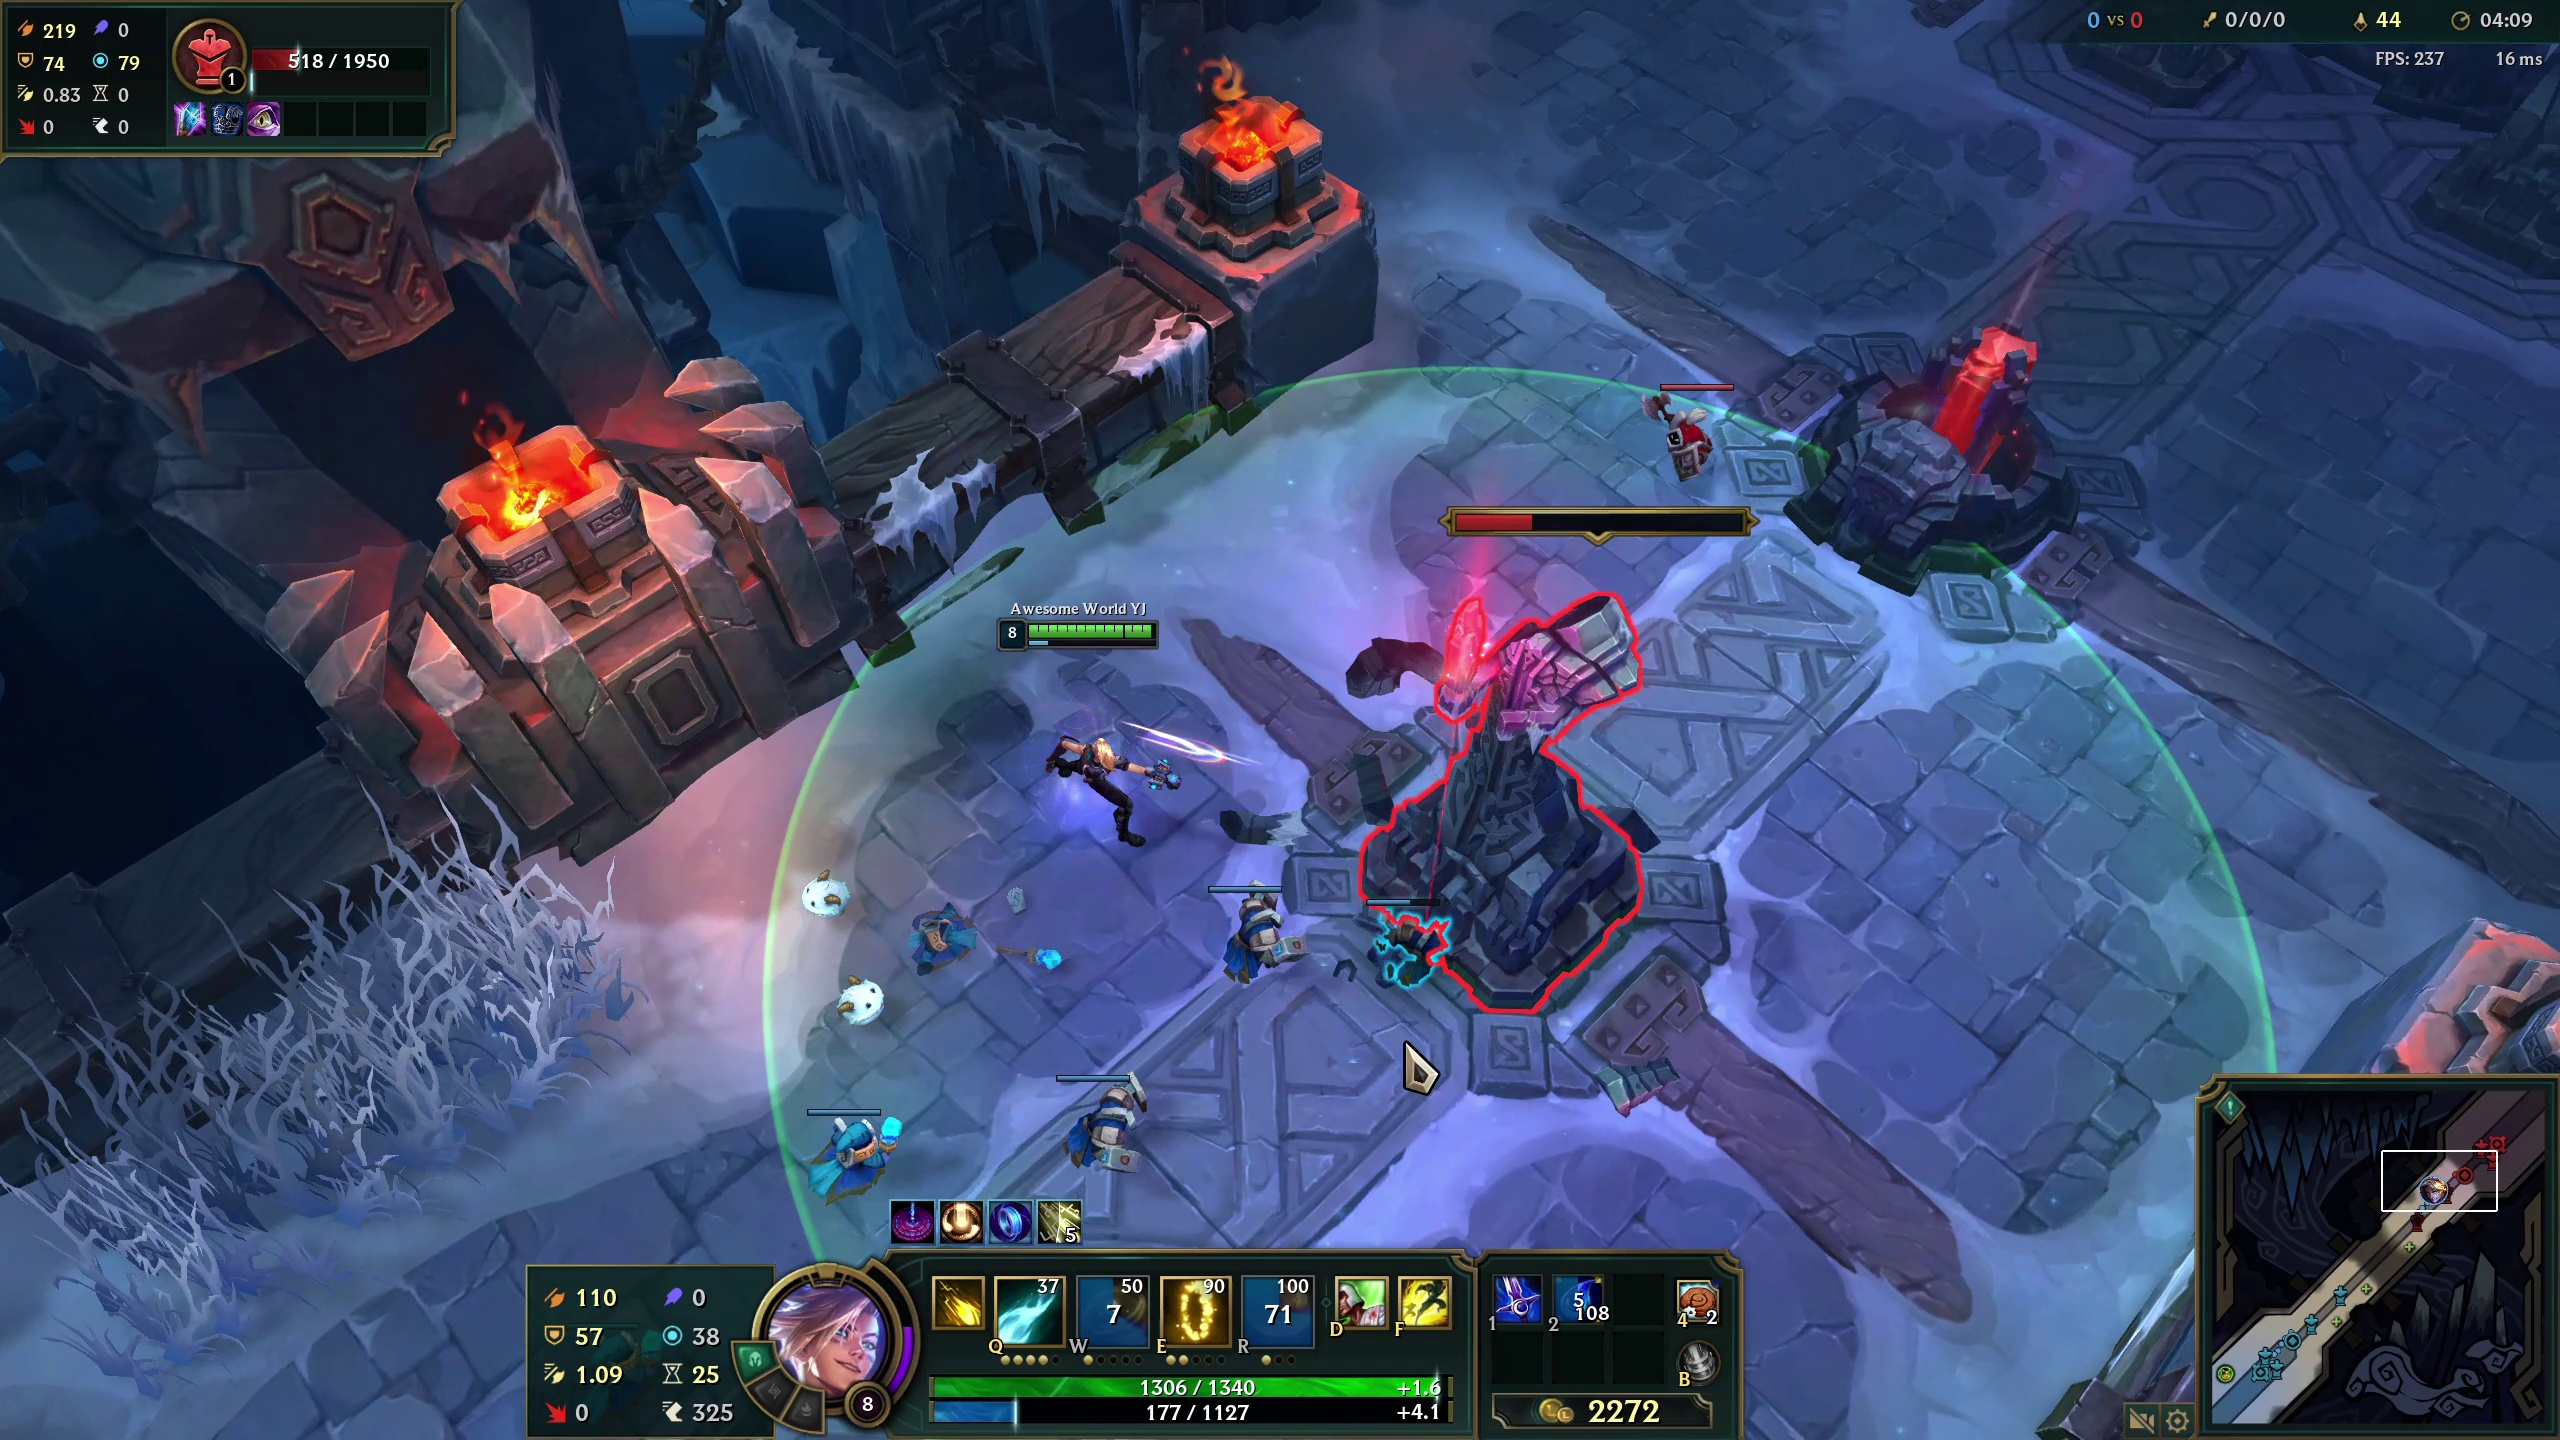EZ: (992, 587, 1159, 842)
EnemyMinion: (1646, 367, 1737, 499)
Glass: (123, 1020, 480, 1173)
Inhibitor: (1829, 322, 2098, 608)
MyMinion: (1342, 879, 1447, 992), (802, 1095, 907, 1206), (1178, 874, 1284, 985), (1050, 1057, 1155, 1167)
Turret: (1407, 529, 1660, 1009), (2435, 104, 2560, 281), (2071, 25, 2222, 118)
